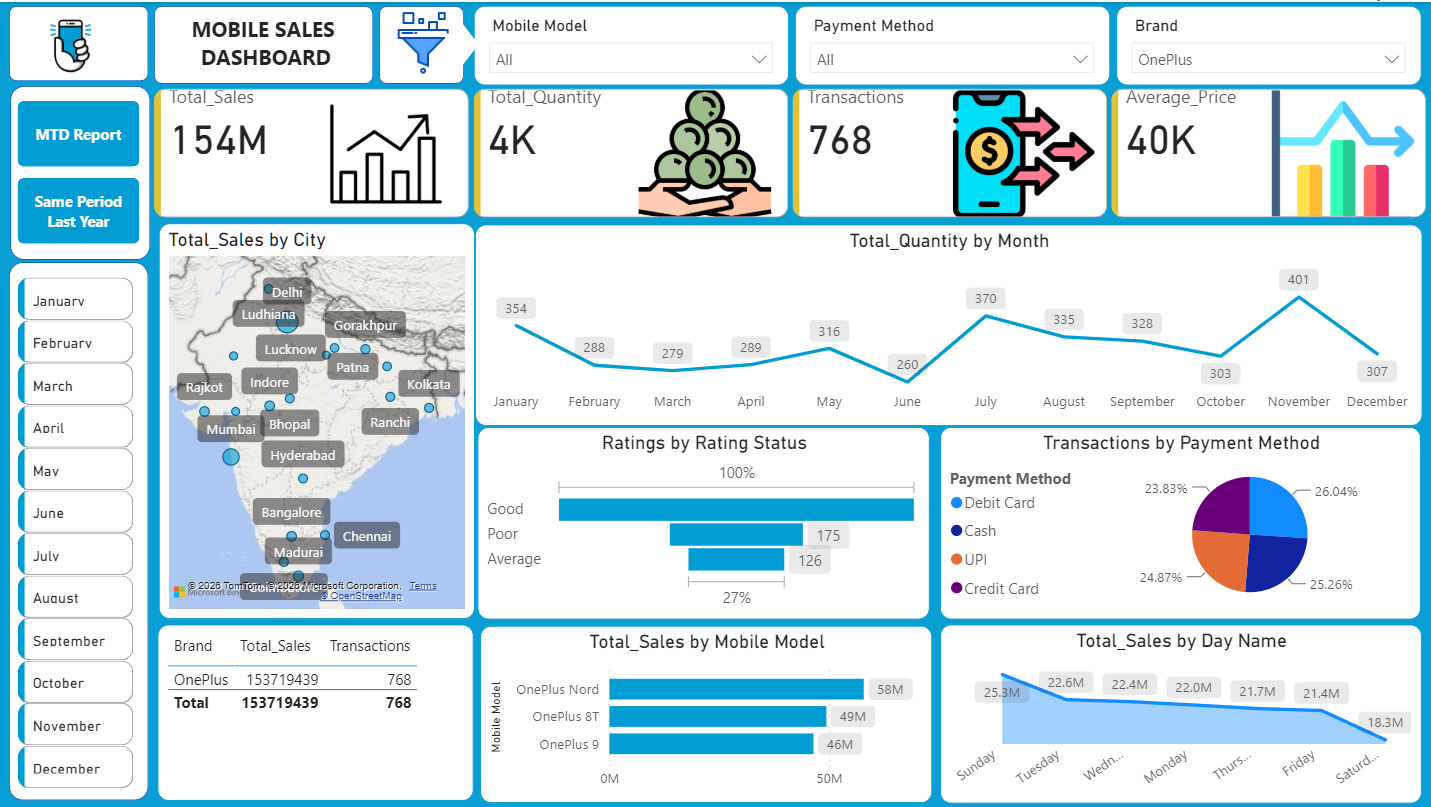

The page's visual inventory and layout, read from the dashboard file:
{"tool":"powerbi","page":{"name":"Dashboard","canvas":[1280,720],"ordinal":0},"visuals":[{"type":"shape","box":[7.5,3.8,125,67.5],"z":0},{"type":"image","box":[23.8,3.8,78.8,71.2],"z":1000},{"type":"shape","box":[8.7,75,125.5,155.8],"z":2000},{"type":"shape","box":[7.5,232.5,125,481.2],"z":3000},{"type":"advancedSlicerVisual","fields":{"Values":["Custom_Calendar.Date.Variation.Date Hierarchy.Month"]},"box":[11.5,240.9,114,473.2],"z":4000},{"type":"cardVisual","fields":{"Data":["Sales_Data.Total_Sales","Sales_Data.Total_Quantity","Sales_Data.Transactions","Sales_Data.Average_Price"]},"box":[132.7,72.1,1147,125.5],"z":5000},{"type":"slicer","fields":{"Values":["Sales_Data.Mobile Model"]},"box":[423.8,3.8,281.2,71.2],"z":6000},{"type":"slicer","fields":{"Values":["Sales_Data.Payment Method"]},"box":[710,3.8,281.2,71.2],"z":7000},{"type":"slicer","fields":{"Values":["Sales_Data.Brand"]},"box":[997.5,3.8,272.5,71.2],"z":8000},{"type":"shape","box":[338.8,3.8,76.2,70],"z":9000},{"type":"image","box":[337.5,3.8,81.2,66.2],"z":10000},{"type":"shape","box":[397.5,17.5,30,40],"z":11000},{"type":"shape","box":[137.5,3.8,196.2,70],"z":12000},{"type":"textbox","box":[156.2,6.2,162.5,63.8],"z":13000},{"type":"map","fields":{"Category":["Sales_Data.City"],"Size":["Sales_Data.Total_Sales"]},"box":[141.4,197.7,282.8,353.5],"z":14000},{"type":"funnel","title":"Ratings by Rating Status","fields":{"Category":["Sales_Data.Rating Status"],"Y":["CountNonNull(Sales_Data.Customer Ratings)"]},"box":[427.1,379.4,404,171.7],"z":15000},{"type":"pieChart","fields":{"Category":["Sales_Data.Payment Method"],"Y":["Sales_Data.Transactions"]},"box":[839.7,379.4,429.9,171.7],"z":16000},{"type":"clusteredBarChart","fields":{"Category":["Sales_Data.Mobile Model"],"Y":["Sales_Data.Total_Sales"]},"box":[428.5,556.9,404,158.7],"z":17000},{"type":"areaChart","fields":{"Category":["Custom_Calendar.Day Name"],"Y":["Sales_Data.Total_Sales"]},"box":[840,556.2,430,160],"z":18000},{"type":"tableEx","fields":{"Values":["Sales_Data.Brand","Sales_Data.Total_Sales","Sales_Data.Transactions"]},"box":[141.2,556.2,282.5,157.5],"z":19000},{"type":"pageNavigator","box":[15.6,88.7,109.1,128.2],"z":20000},{"type":"lineChart","fields":{"Category":["Custom_Calendar.Date.Variation.Date Hierarchy.Month"],"Y":["Sales_Data.Total_Quantity"]},"box":[424.2,198.5,846.1,180.3],"z":21000}]}

Visuals, with their boxes in screenshot pixels (x1, y1, x2, y2), scaled from the page's 1280x720 canvas onto the 1431x807 screenshot:
shape: (x1=8, y1=4, x2=148, y2=80)
image: (x1=27, y1=4, x2=115, y2=84)
shape: (x1=10, y1=84, x2=150, y2=259)
shape: (x1=8, y1=261, x2=148, y2=800)
advancedSlicerVisual - Custom_Calendar.Date.Variation.Date Hierarchy.Month: (x1=13, y1=270, x2=140, y2=800)
cardVisual - Sales_Data.Total_Sales x Sales_Data.Total_Quantity: (x1=148, y1=81, x2=1430, y2=221)
slicer - Sales_Data.Mobile Model: (x1=474, y1=4, x2=788, y2=84)
slicer - Sales_Data.Payment Method: (x1=794, y1=4, x2=1108, y2=84)
slicer - Sales_Data.Brand: (x1=1115, y1=4, x2=1420, y2=84)
shape: (x1=379, y1=4, x2=464, y2=83)
image: (x1=377, y1=4, x2=468, y2=78)
shape: (x1=444, y1=20, x2=478, y2=64)
shape: (x1=154, y1=4, x2=373, y2=83)
textbox: (x1=175, y1=7, x2=356, y2=78)
map - Sales_Data.City x Sales_Data.Total_Sales: (x1=158, y1=222, x2=474, y2=618)
"Ratings by Rating Status" funnel: (x1=477, y1=425, x2=929, y2=618)
pieChart - Sales_Data.Payment Method x Sales_Data.Transactions: (x1=939, y1=425, x2=1419, y2=618)
clusteredBarChart - Sales_Data.Mobile Model x Sales_Data.Total_Sales: (x1=479, y1=624, x2=931, y2=802)
areaChart - Custom_Calendar.Day Name x Sales_Data.Total_Sales: (x1=939, y1=623, x2=1420, y2=803)
tableEx - Sales_Data.Brand x Sales_Data.Total_Sales: (x1=158, y1=623, x2=474, y2=800)
pageNavigator: (x1=17, y1=99, x2=139, y2=243)
lineChart - Custom_Calendar.Date.Variation.Date Hierarchy.Month x Sales_Data.Total_Quantity: (x1=474, y1=222, x2=1420, y2=425)
